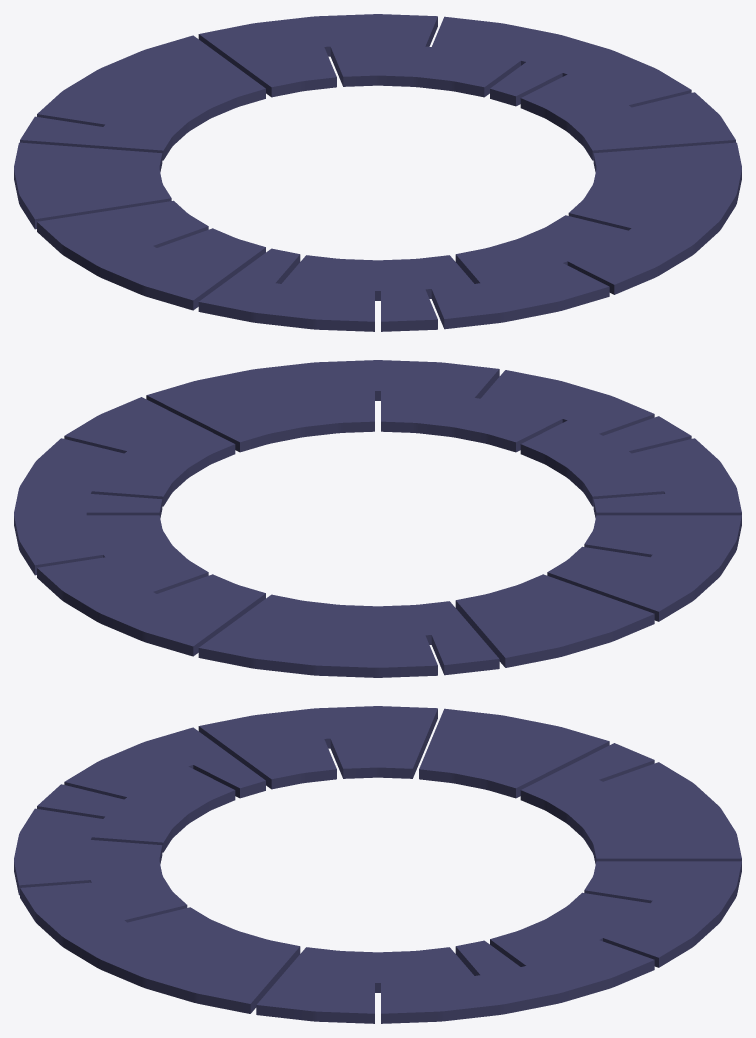
File: MiddleRing.fbx
3 views of the same model, one above another, from view 1: azimuth 30°, elevation 25°; view 2: azimuth 150°, elevation 25°; view 3: azimuth 270°, elevation 25° (orthographic).
Visible parts, largest first — view 1: MiddleRing; view 2: MiddleRing; view 3: MiddleRing.
Part boxes in pixels (x1,y1,x2,y2): MiddleRing: [14, 14, 741, 331]; MiddleRing: [14, 360, 741, 677]; MiddleRing: [14, 706, 741, 1023].
Size of the model in its own units: 143 by 2.19 by 143.
